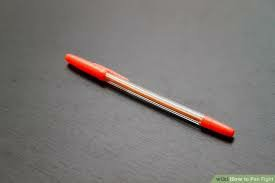pen: (64, 54, 231, 133)
